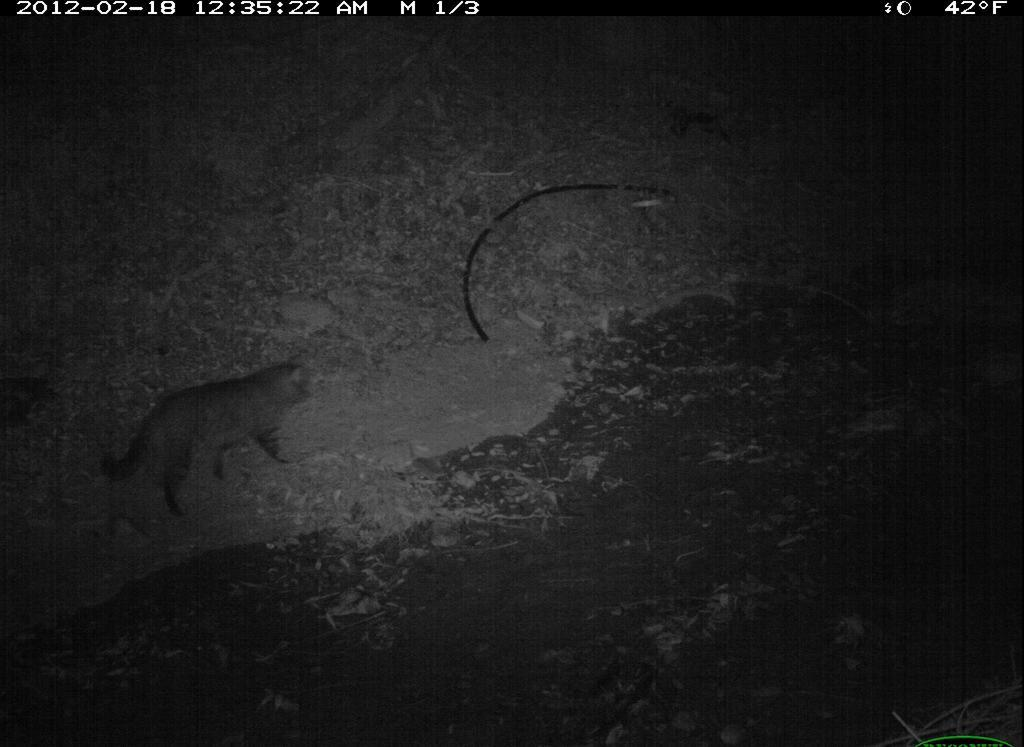cat: (93, 358, 327, 529)
